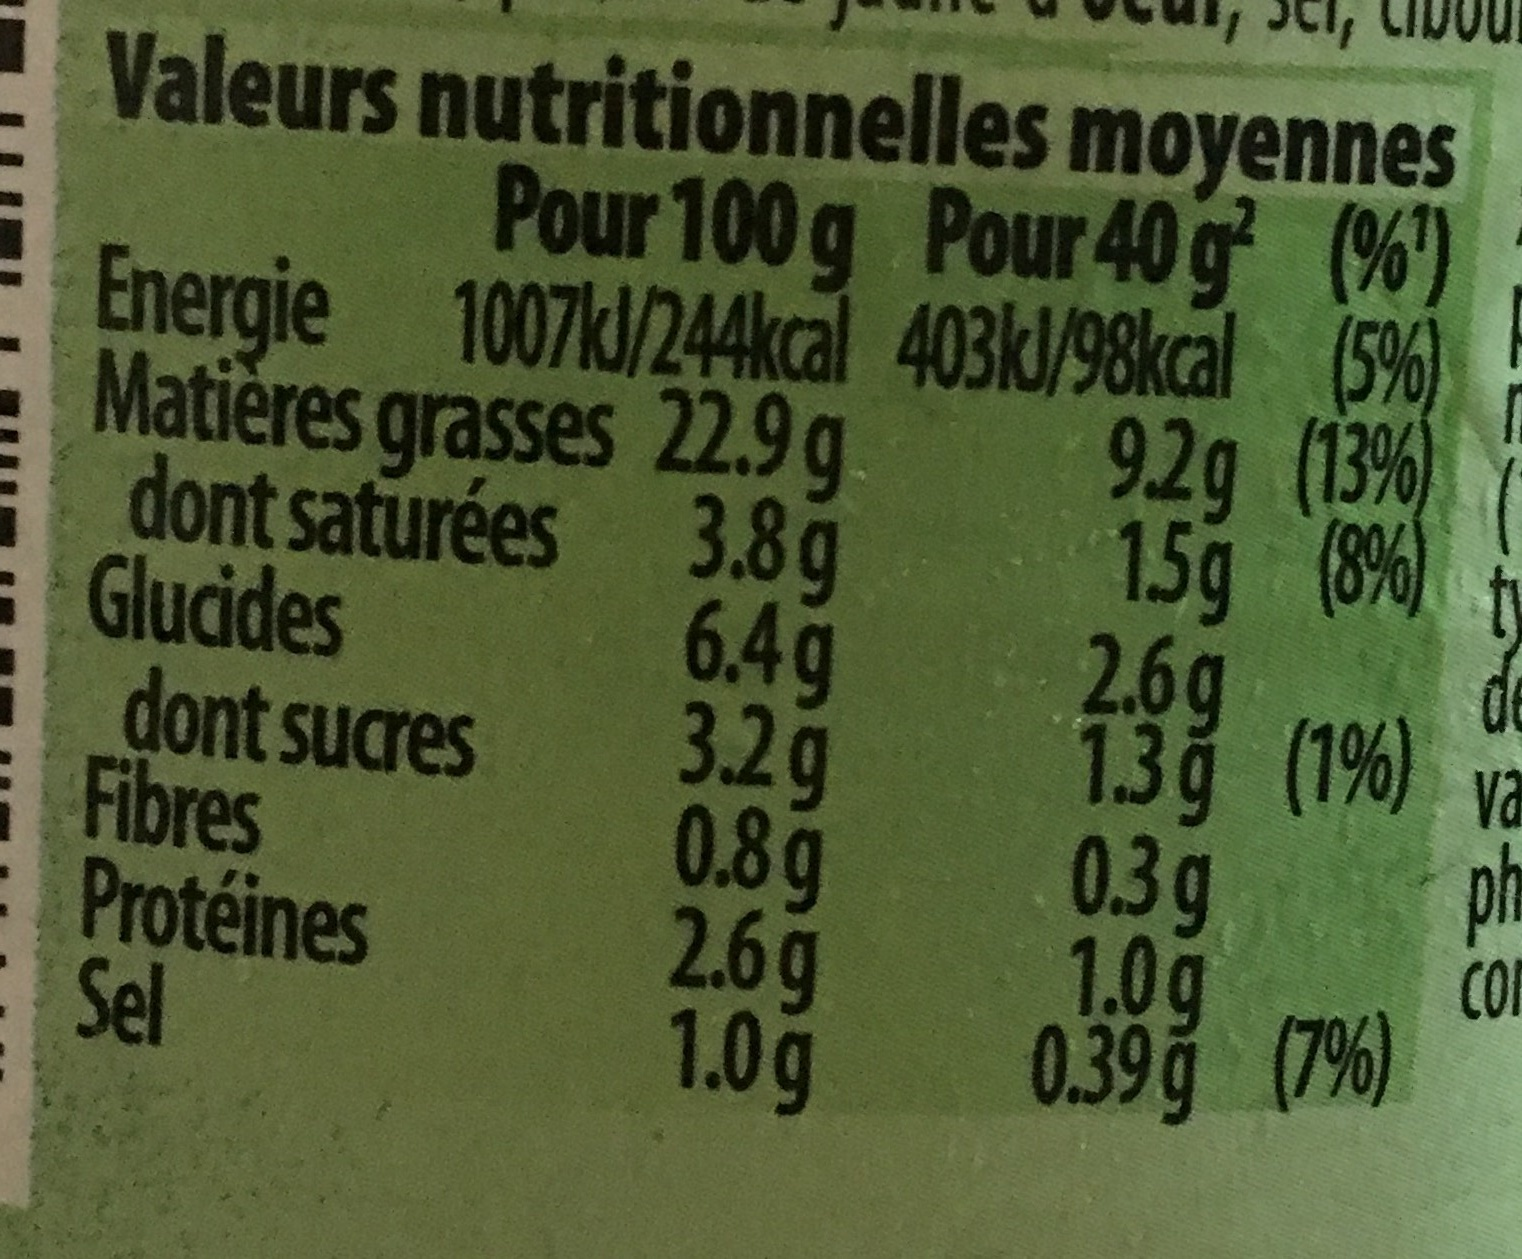column: (90, 162, 852, 1116), (890, 174, 1257, 1128), (1272, 185, 1450, 1128)
table: (64, 19, 1464, 1124)
